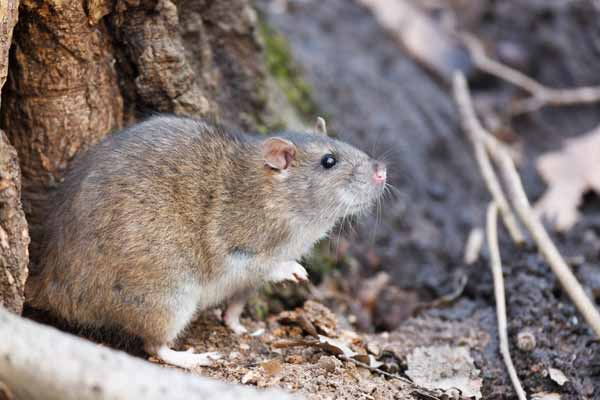rat: (18, 103, 401, 374)
